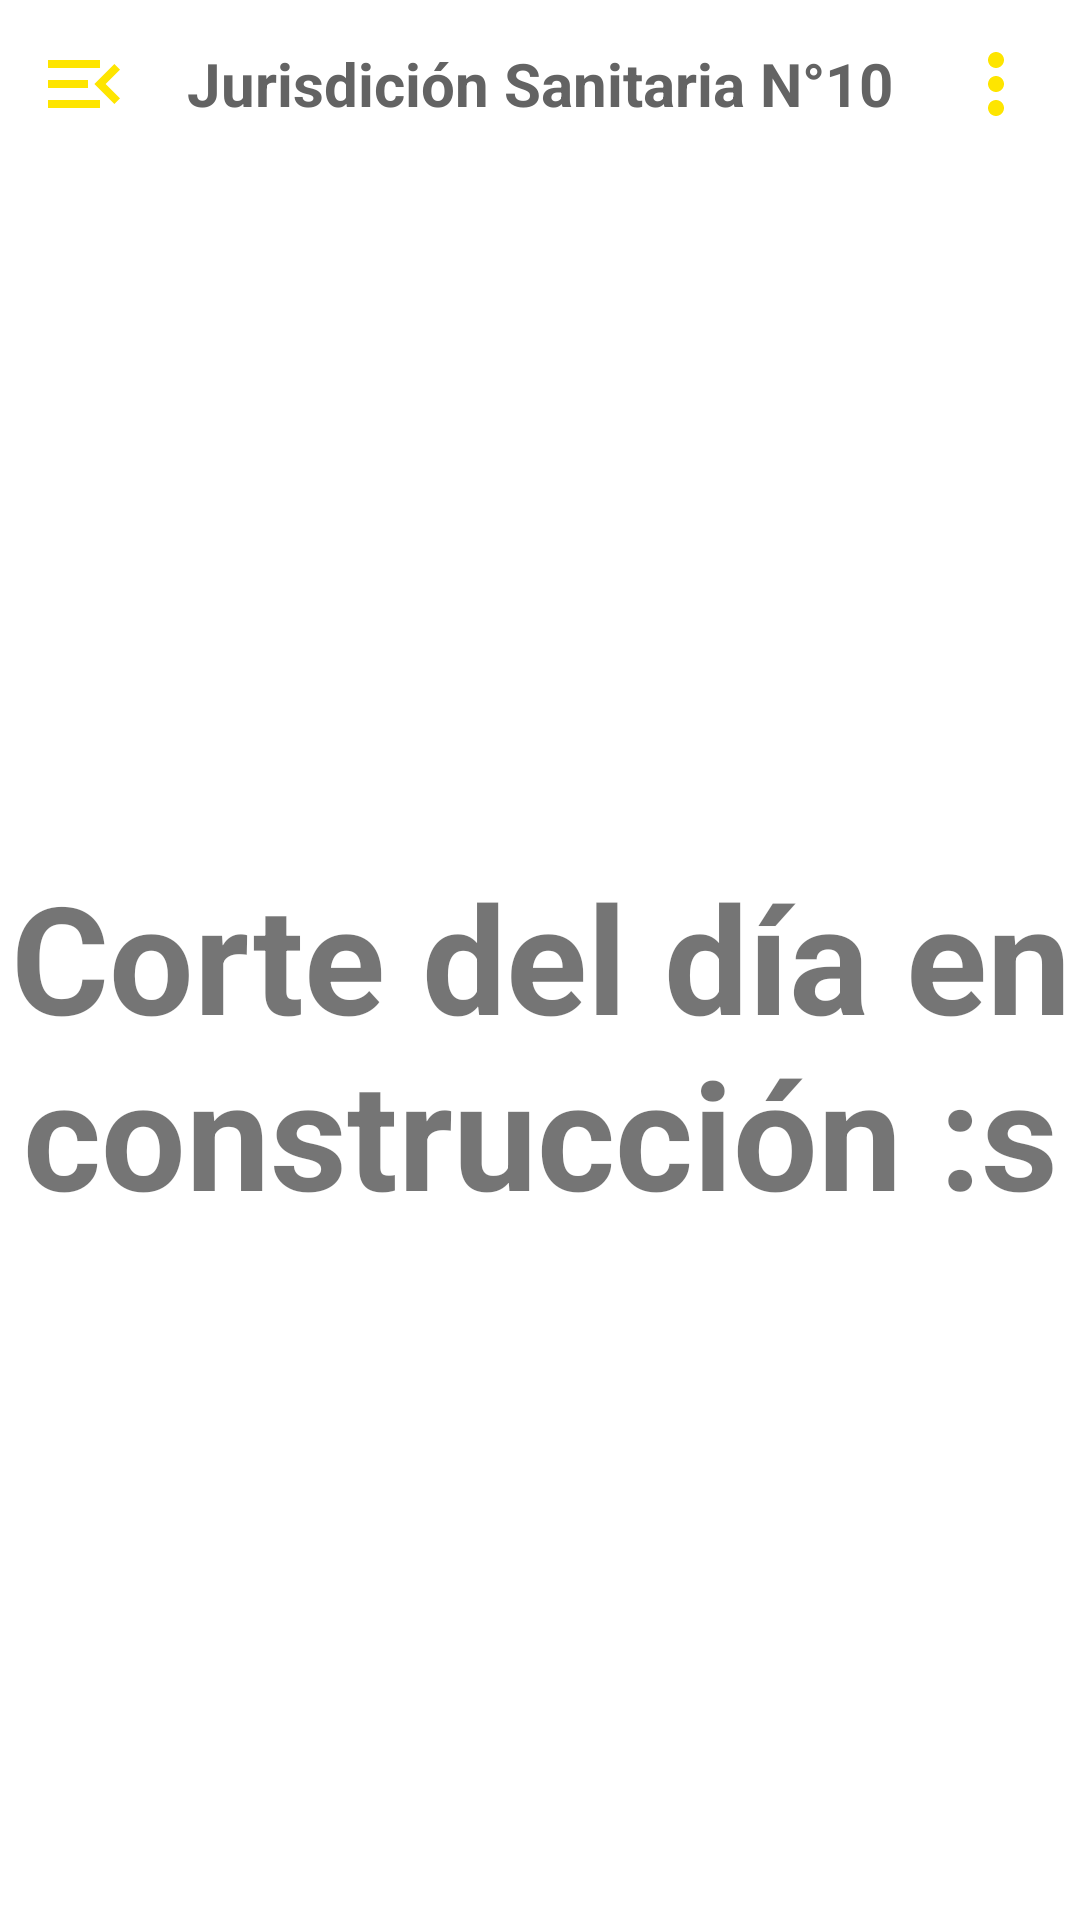

Icon click points for this 1080w x 1920h phone screenshot, format (x,y):
menu: (84,84)
more: (996,84)
